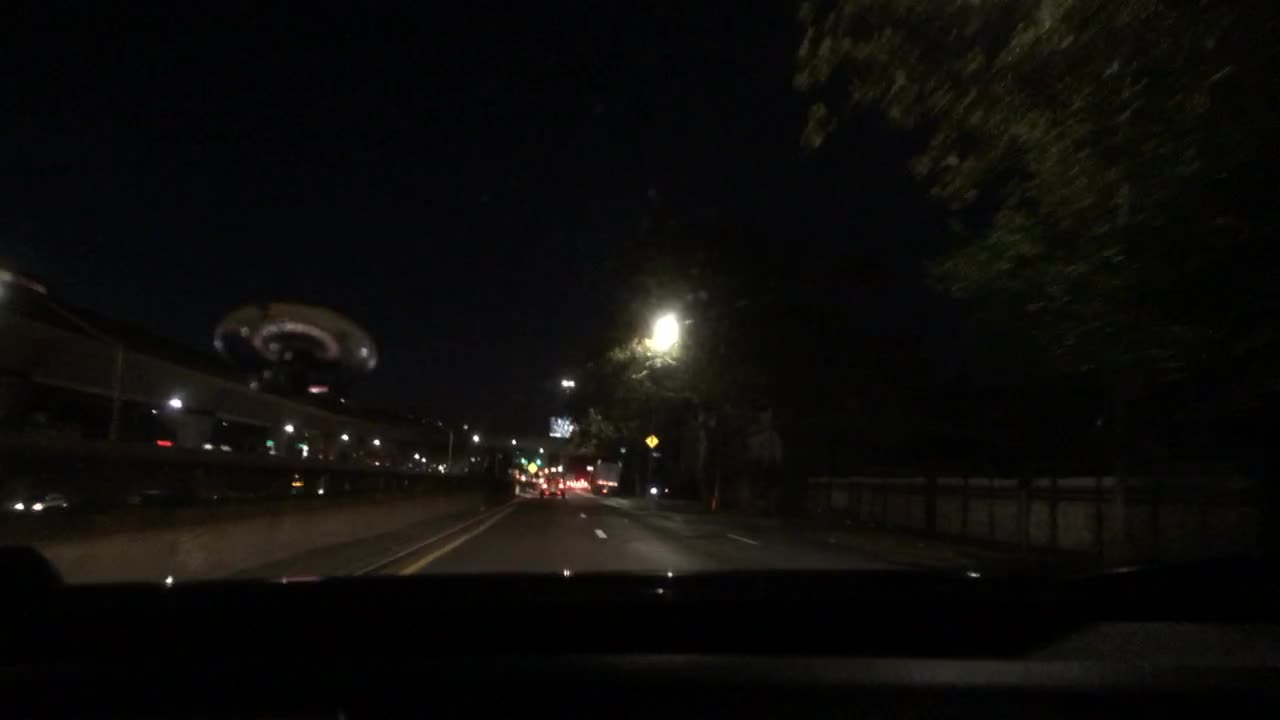car: (12, 489, 69, 515), (536, 479, 567, 503), (573, 477, 589, 489), (563, 476, 575, 489)
traffic sign: (643, 432, 661, 447), (525, 462, 538, 476)
truck: (590, 461, 622, 498)
